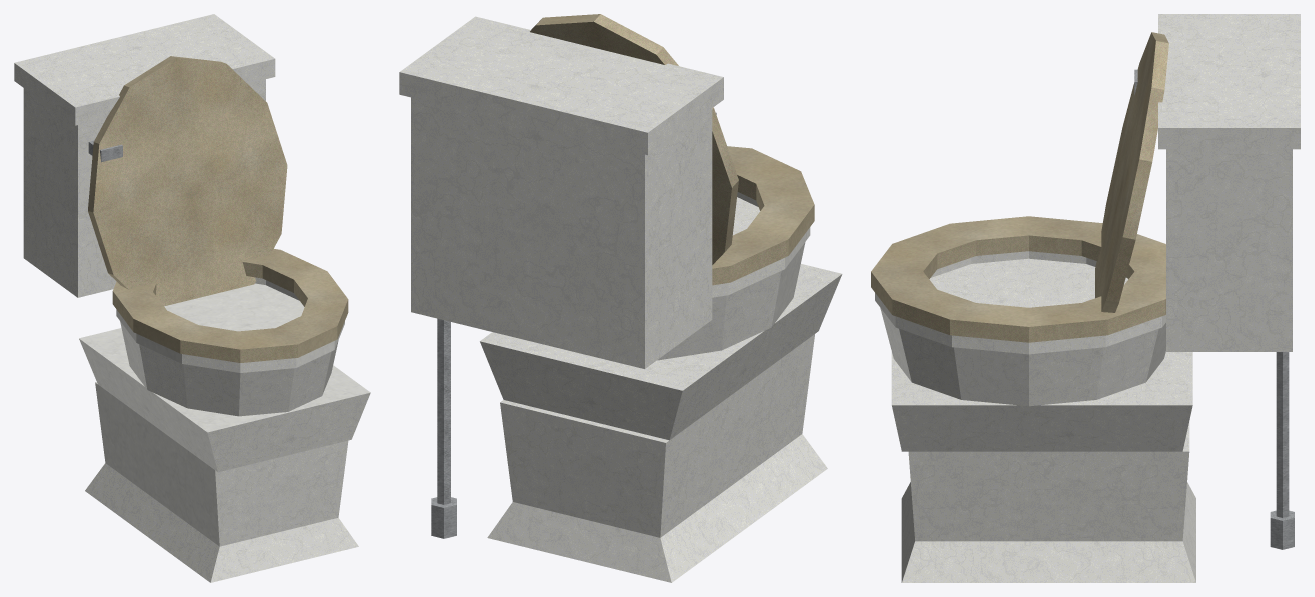
The model's file is toilet.glb.
3 renders of one model, left to right at view 1: azimuth 30°, elevation 25°; view 2: azimuth 150°, elevation 25°; view 3: azimuth 270°, elevation 25°, orthographic. The views are drawn at different scales.
Parts seen in each view (by area): view 1: toilet; view 2: toilet; view 3: toilet.
Boxes of the visible parts, box(x1,y1,x2,y2) form: toilet: box(14, 14, 370, 582); toilet: box(399, 14, 842, 582); toilet: box(871, 14, 1300, 582).
Size of the model in its own units: 0.404 by 0.8248 by 0.643.
4 materials, 3 textured.
